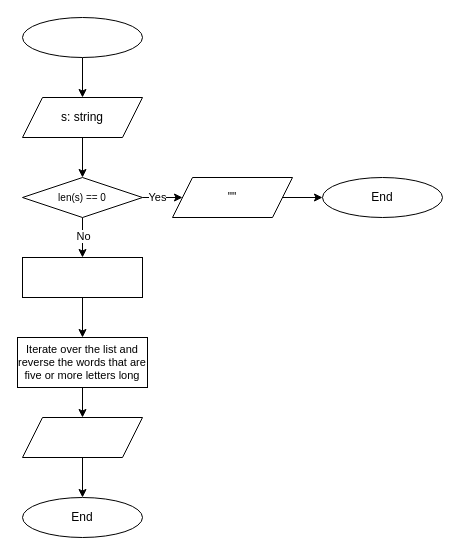
Some shapes in this 460 by 555 pixel diagram are drawn without their labels. Each missing label, with the centre of its shape:
" ".join(l): [82,437]
l = s.split(" "): [82,277]
Start: [82,37]
